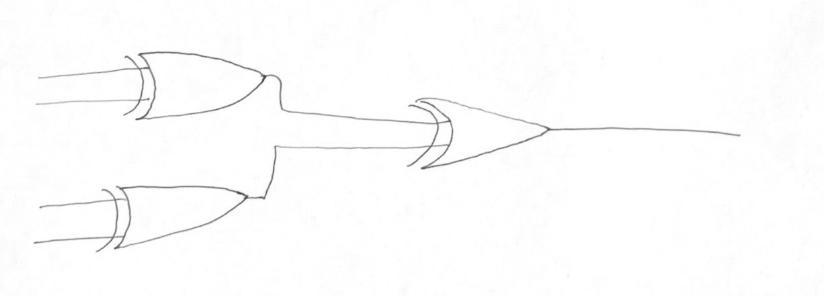XOR: (392, 80, 578, 177), (115, 38, 272, 136), (92, 170, 256, 260)
